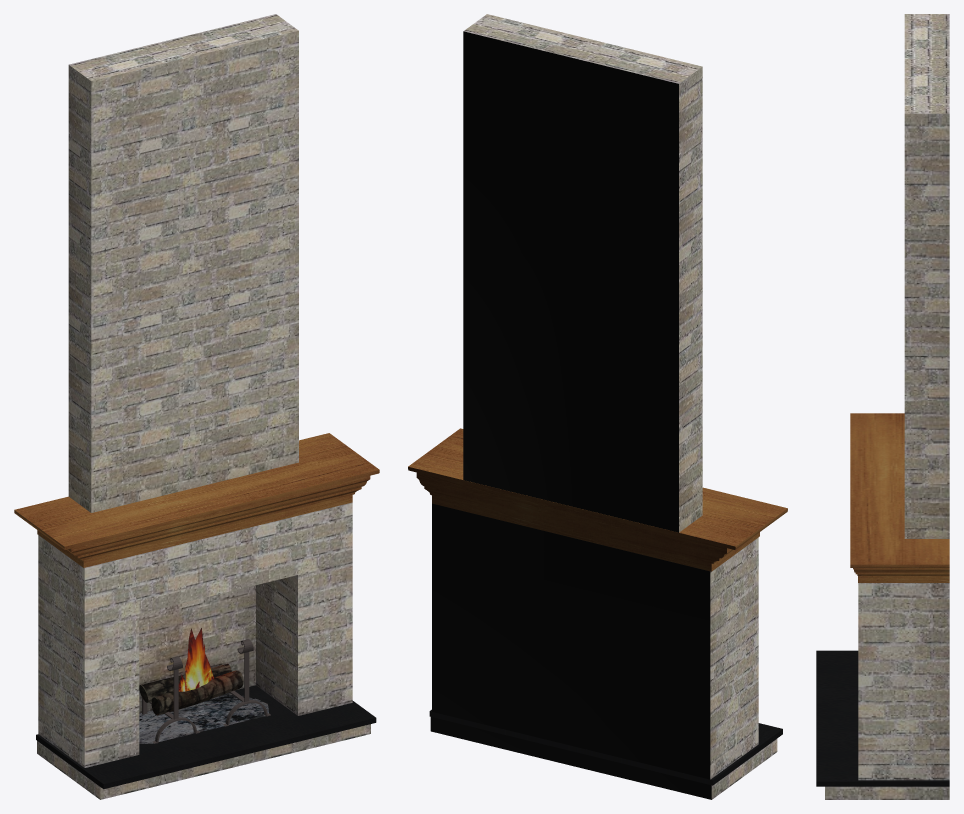
File: fireplace2.glb
3 renders of one model, left to right at view 1: azimuth 30°, elevation 25°; view 2: azimuth 150°, elevation 25°; view 3: azimuth 270°, elevation 25°, orthographic. The views are drawn at different scales.
Parts seen in each view (by area): view 1: Node1, Node4, Node8, Node5, Node7; view 2: Node4, Node1, Node8, Node5; view 3: Node1, Node4, Node8, Node5.
Part boxes in pixels (left/top/right/bottom): Node1: left=68, top=14, right=298, bottom=512; Node4: left=37, top=502, right=370, bottom=799; Node8: left=14, top=433, right=379, bottom=743; Node5: left=36, top=685, right=376, bottom=789; Node7: left=142, top=669, right=200, bottom=743; Node4: left=430, top=31, right=777, bottom=799; Node1: left=464, top=14, right=702, bottom=532; Node8: left=408, top=428, right=787, bottom=571; Node5: left=429, top=709, right=782, bottom=785; Node1: left=904, top=14, right=949, bottom=538; Node4: left=825, top=583, right=949, bottom=799; Node8: left=850, top=413, right=949, bottom=582; Node5: left=816, top=650, right=949, bottom=786.
Size of the model in its own units: 121 by 250 by 44.93.
8 materials, 7 textured.
